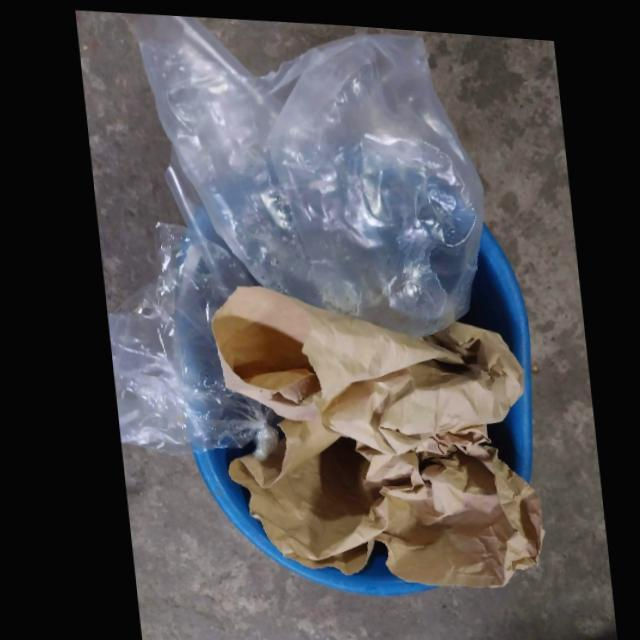paper: (205, 279, 536, 580)
plastic: (101, 10, 481, 462)
